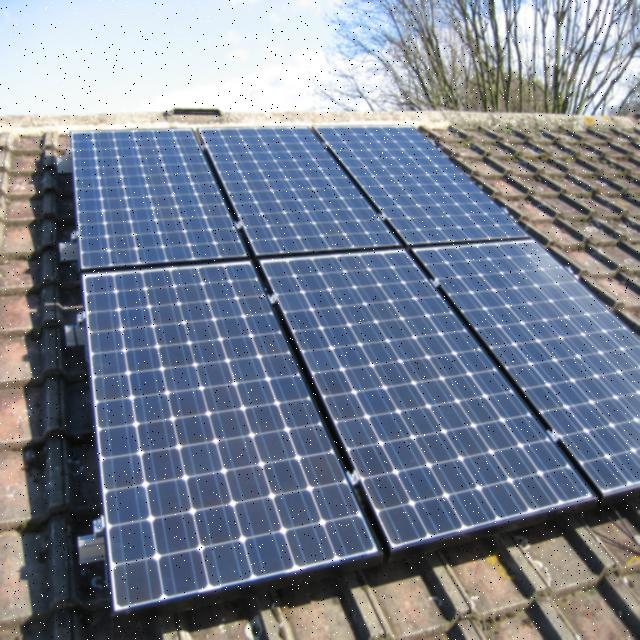clean: (73, 130, 640, 608)
